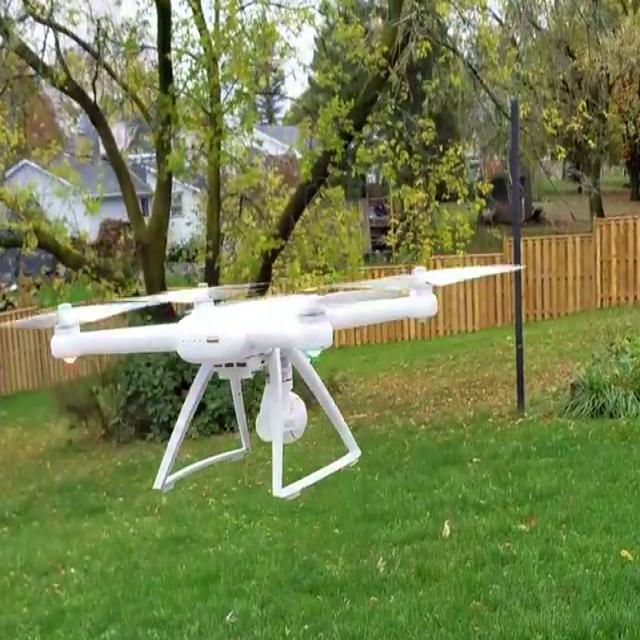drone: (17, 248, 539, 408)
